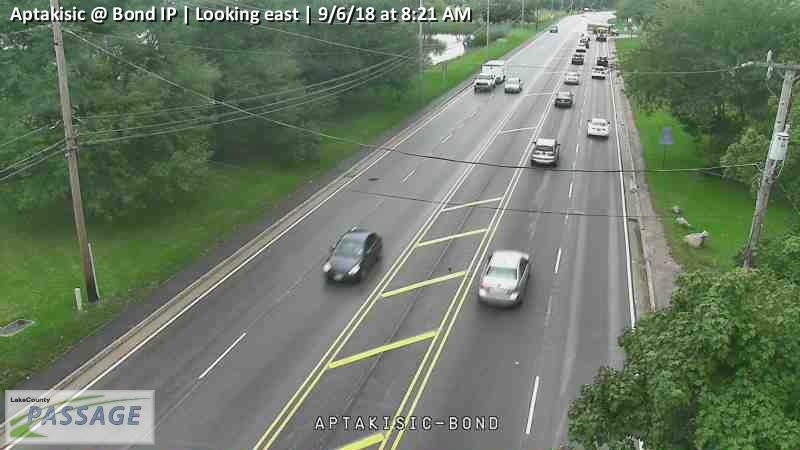SUV: (474, 72, 497, 91)
Sedan: (322, 229, 383, 283), (476, 249, 531, 307), (529, 137, 561, 166), (585, 118, 610, 138), (554, 90, 575, 107), (504, 76, 521, 93), (591, 65, 606, 79), (565, 71, 580, 84), (571, 52, 584, 65), (578, 37, 590, 48), (597, 56, 609, 66), (576, 43, 586, 51), (549, 25, 558, 33)
Truck: (482, 59, 505, 83), (587, 22, 620, 37), (594, 25, 608, 42)
